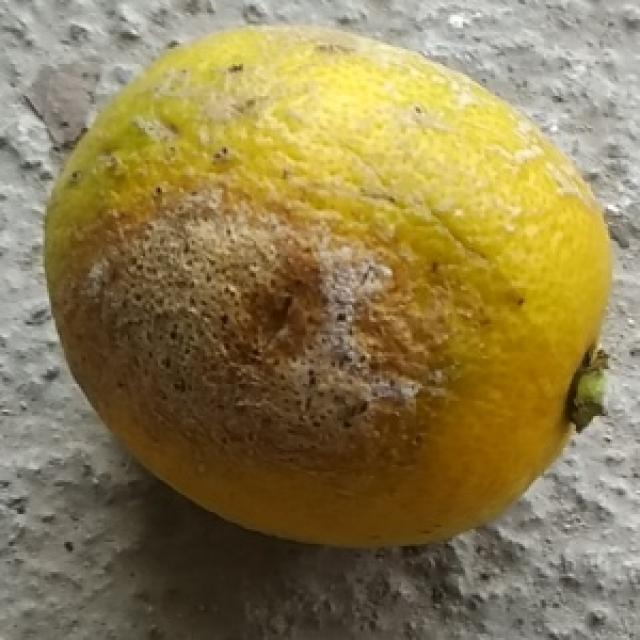overripe: (32, 21, 622, 555)
